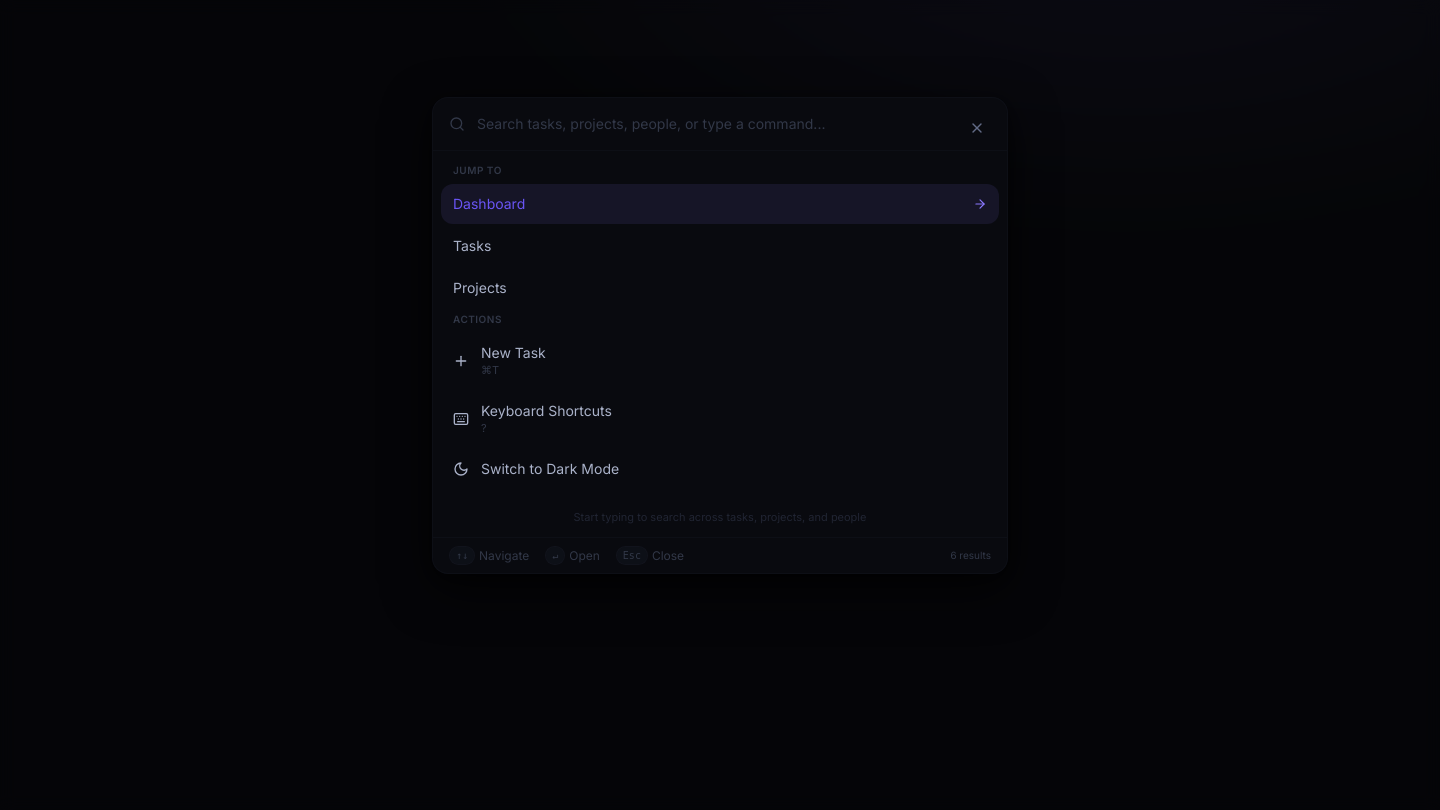
SearchCommand › fetches cross-entity search results on input
Type "test" into the field with placeholder "Search tasks, projects, people, or type a command...".
click(728, 124); type("test")  # box [465, 98, 991, 150]
Wait 300 ms
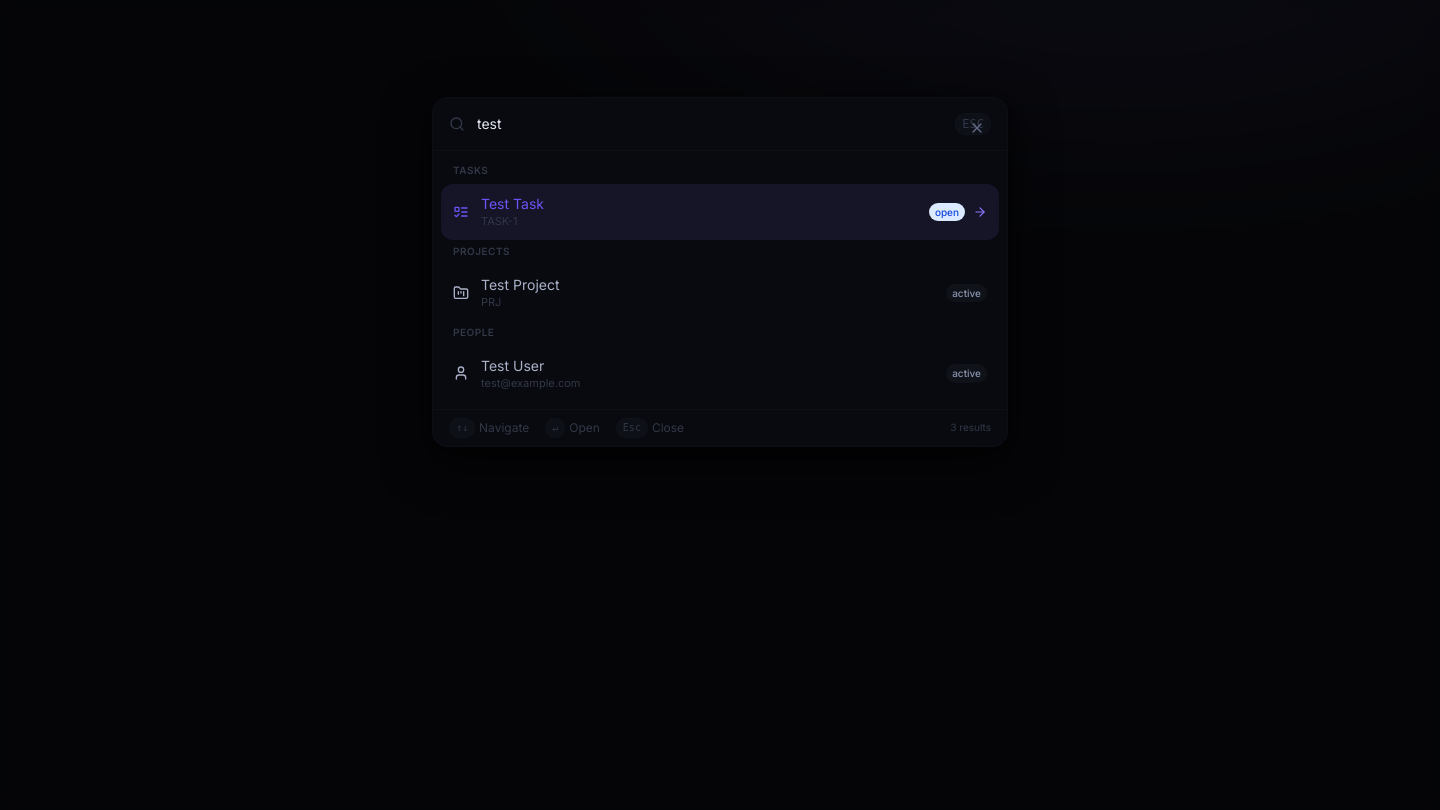
Now the text "Test Task" is shown, box [481, 194, 544, 214]
Now the text "Test Project" is shown, box [481, 275, 560, 295]
Now the text "Test User" is shown, box [481, 357, 544, 374]
